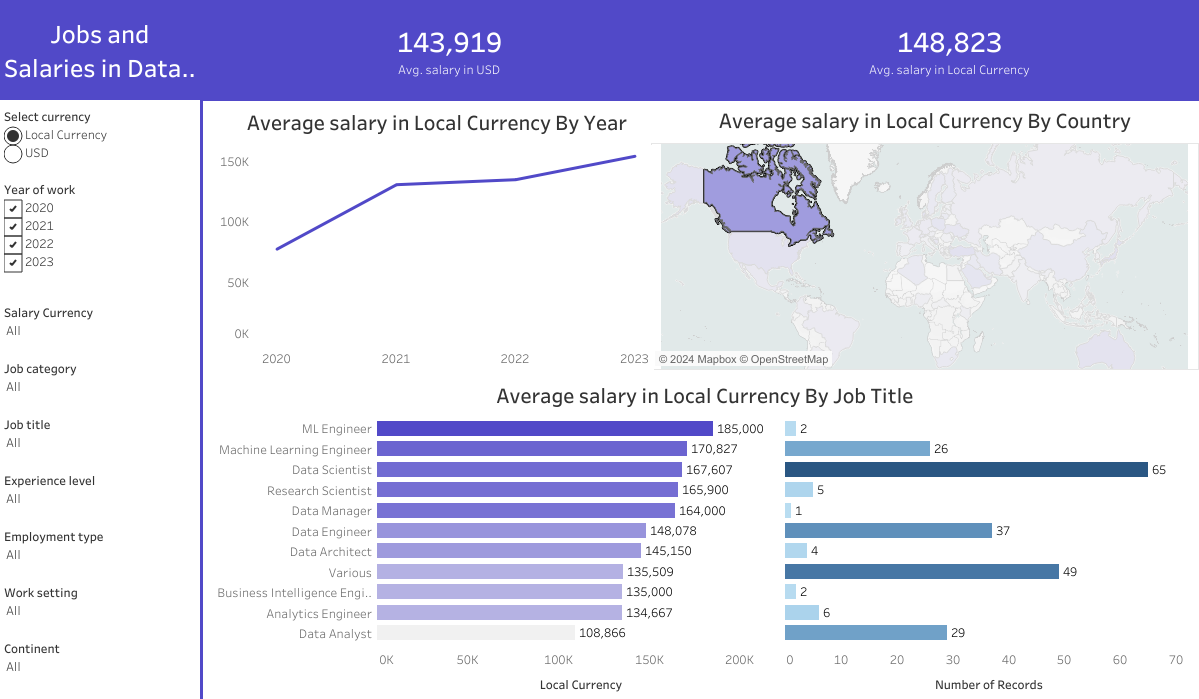

Layout of this report page (visuals, bound fields, positions):
{"tool":"tableau","page":{"name":"Dashboard 1","canvas":[1200,700],"ordinal":0},"visuals":[{"type":"text","box":[0,0,200,100]},{"type":"worksheet","title":"Summary","mark":"Automatic","box":[200,0,1000,100]},{"type":"blank","box":[200,100,3,600]},{"type":"worksheet","title":"Map","mark":"Automatic","box":[651,100,548,270]},{"type":"parameter","param":"[Parameters].[Parameter 1]","box":[0,102,200,70]},{"type":"worksheet","title":"Graph","mark":"Automatic","rows":["Calculation_276408469551222784"],"cols":["work_year"],"box":[220,102,434,270]},{"type":"filter","title":"Map","param":"[federated.01ib7de0p3k7c81c2b1hu0c9x6ga].[yr:work_year:ok]","box":[0,172,200,127]},{"type":"filter","title":"Map","param":"[federated.01ib7de0p3k7c81c2b1hu0c9x6ga].[none:salary_currency:nk]","box":[0,299,200,52]},{"type":"filter","title":"Map","param":"[federated.01ib7de0p3k7c81c2b1hu0c9x6ga].[none:job_category:nk]","box":[0,351,200,52]},{"type":"worksheet","title":"Job title","mark":"Automatic","cols":["Calculation_276408469551222784","jobs_in_data.csv_A9555A27A66F4EDB8AC7E321B9D595E3"],"box":[217,375,976,325]},{"type":"filter","title":"Map","param":"[federated.01ib7de0p3k7c81c2b1hu0c9x6ga].[job_title (group)]","box":[0,403,200,52]},{"type":"filter","title":"Map","param":"[federated.01ib7de0p3k7c81c2b1hu0c9x6ga].[none:experience_level:nk]","box":[0,455,200,52]},{"type":"filter","title":"Map","param":"[federated.01ib7de0p3k7c81c2b1hu0c9x6ga].[none:employment_type:nk]","box":[0,507,200,52]},{"type":"filter","title":"Map","param":"[federated.01ib7de0p3k7c81c2b1hu0c9x6ga].[none:work_setting:nk]","box":[0,559,200,52]},{"type":"filter","title":"Map","param":"[federated.01ib7de0p3k7c81c2b1hu0c9x6ga].[none:Continent:nk]","box":[0,611,200,52]}]}

Visuals, with their boxes in screenshot pixels (x1, y1, x2, y2), scaled from the page's 1200x700 canvas onto the 1199x699 screenshot:
text: bbox=[0, 0, 200, 100]
"Summary" worksheet: bbox=[200, 0, 1198, 100]
blank: bbox=[200, 100, 203, 698]
"Map" worksheet: bbox=[650, 100, 1198, 369]
parameter: bbox=[0, 102, 200, 172]
"Graph" worksheet: bbox=[220, 102, 653, 371]
"Map" filter: bbox=[0, 172, 200, 299]
"Map" filter: bbox=[0, 299, 200, 350]
"Map" filter: bbox=[0, 350, 200, 402]
"Job title" worksheet: bbox=[217, 374, 1192, 698]
"Map" filter: bbox=[0, 402, 200, 454]
"Map" filter: bbox=[0, 454, 200, 506]
"Map" filter: bbox=[0, 506, 200, 558]
"Map" filter: bbox=[0, 558, 200, 610]
"Map" filter: bbox=[0, 610, 200, 662]
